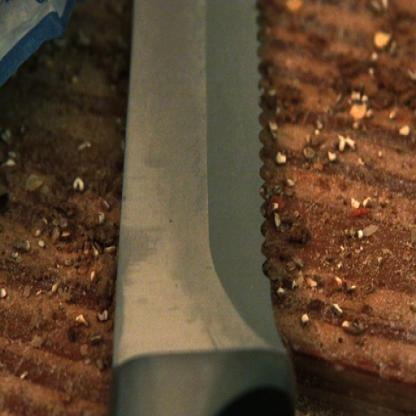knife: (85, 0, 299, 415)
